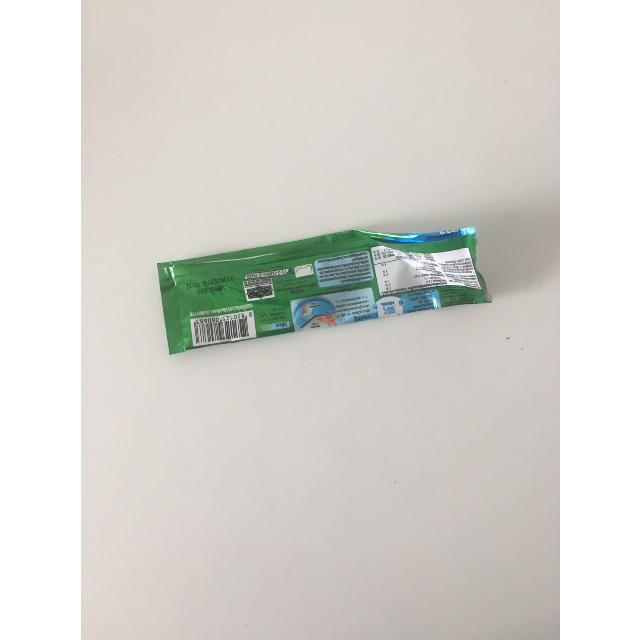Paquete de plastico: (316, 252, 372, 287)
